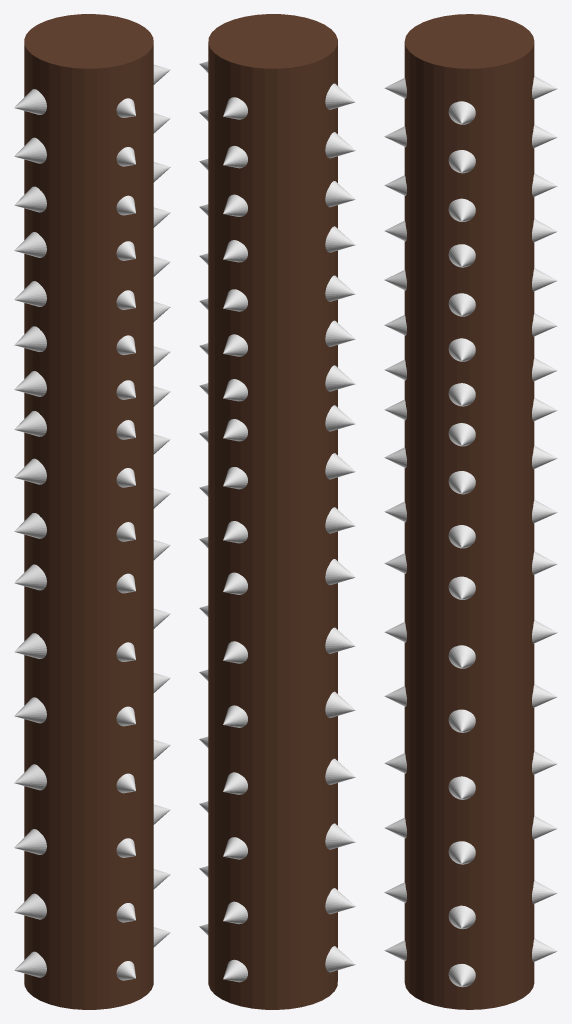
File: Log.fbx
3 views of the same model, side by side, from view 1: azimuth 30°, elevation 25°; view 2: azimuth 150°, elevation 25°; view 3: azimuth 270°, elevation 25° (orthographic).
Visible parts, largest first — view 1: Trocno, Pincho.068; view 2: Trocno, Pincho.068; view 3: Trocno, Pincho.068.
Part boxes in pixels (x1,y1,x2,y2): Trocno: [24, 14, 153, 1009]; Pincho.068: [14, 64, 170, 980]; Trocno: [208, 14, 337, 1009]; Pincho.068: [199, 61, 355, 982]; Trocno: [404, 14, 534, 1009]; Pincho.068: [384, 76, 557, 987].
Bounding box in the file's own units: 279 × 1600 × 268.
1 material, 1 textured.
